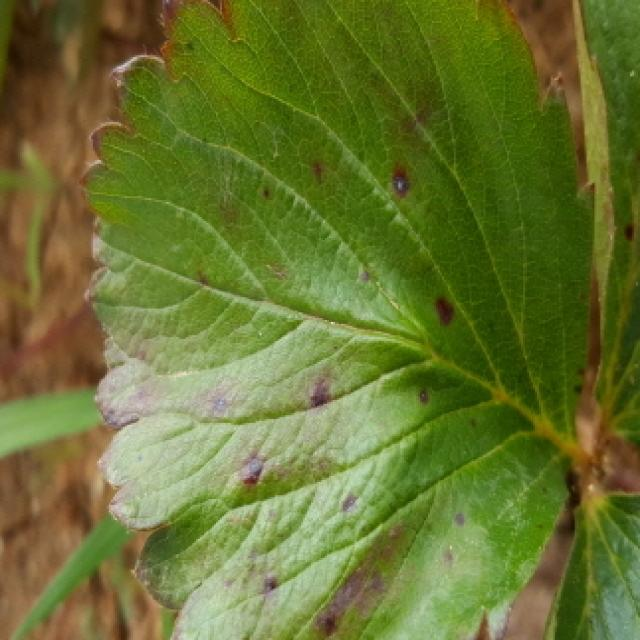Leaf Spot: (75, 0, 595, 640)
